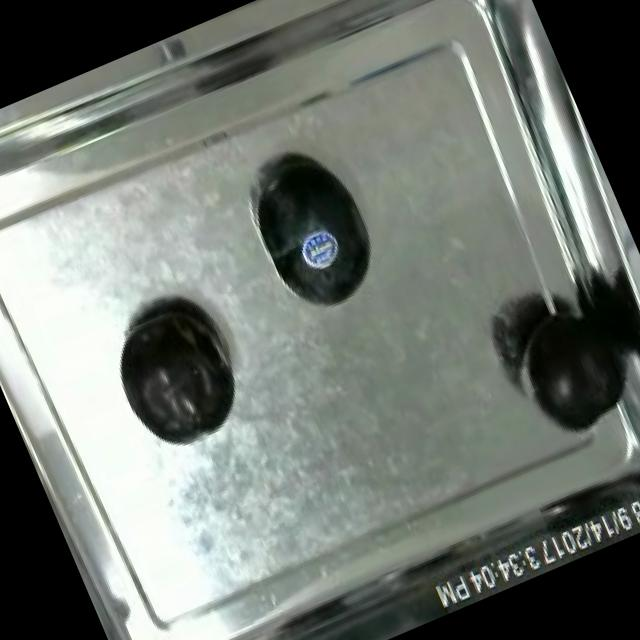Fruit: (235, 142, 400, 332), (94, 284, 258, 464), (494, 287, 640, 455)
